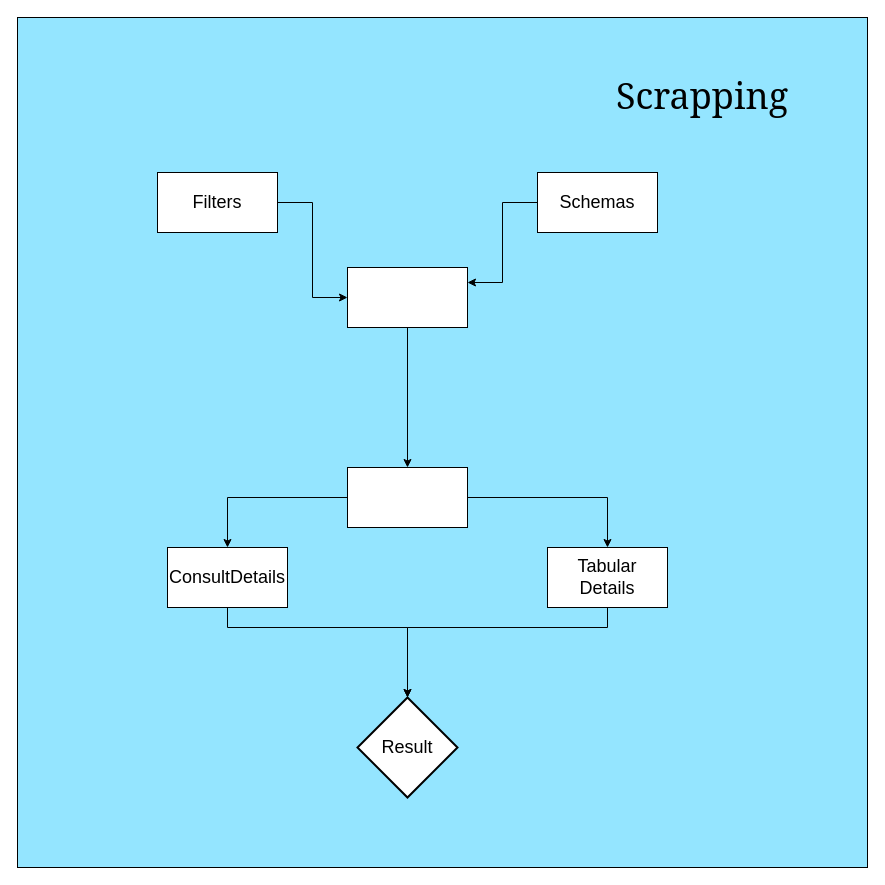
The diagram is 885 pixels wide and 885 high, and some of its shapes have lost their labels. The shapes that lost their labels are listed below. From the top down, each one's box as (x1, y1, x2, y2) in pixels, then its label:
(346, 266, 468, 328): Searcher
(346, 466, 468, 528): DetailsLinks
